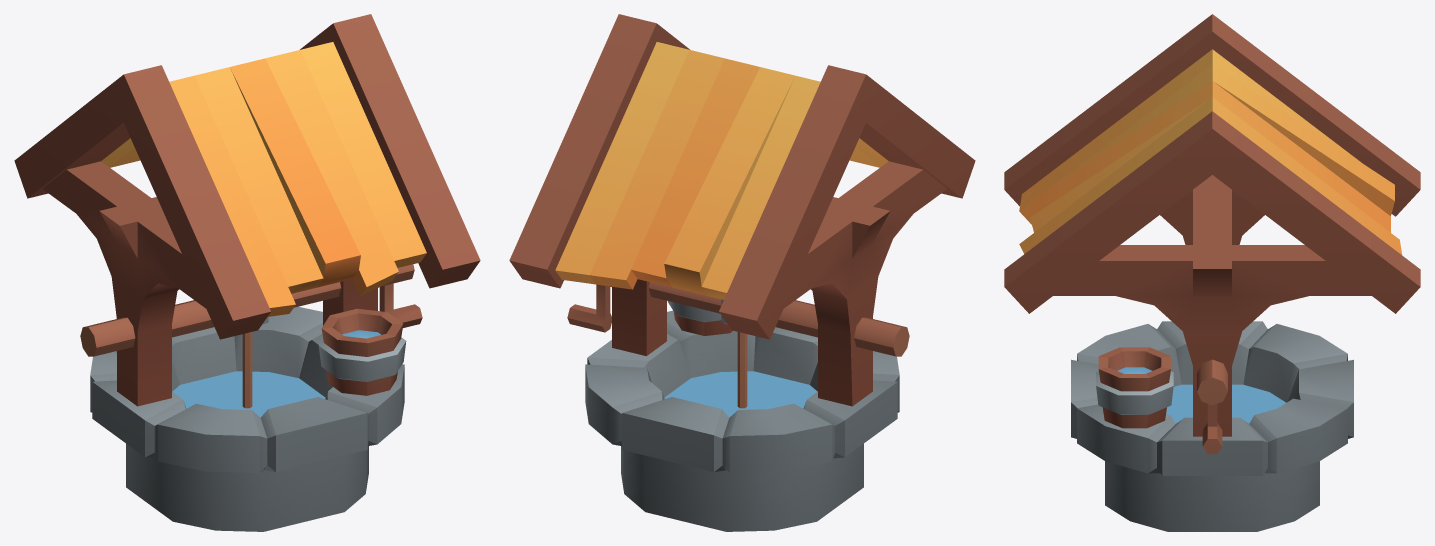
Rendered from building_well_yellow.glb.
3 renders of one model, left to right at view 1: azimuth 30°, elevation 25°; view 2: azimuth 150°, elevation 25°; view 3: azimuth 270°, elevation 25°, orthographic. The views are drawn at different scales.
Visible parts, largest first — view 1: building_well_yellow; view 2: building_well_yellow; view 3: building_well_yellow.
Part boxes in pixels (box(x1,y1,x2,y2)): building_well_yellow: box(14, 14, 480, 531); building_well_yellow: box(509, 14, 975, 531); building_well_yellow: box(1004, 14, 1420, 531).
Size of the model in its own units: 0.6518 by 0.826 by 0.7507.
Materials: 1 (1 with a texture image).
